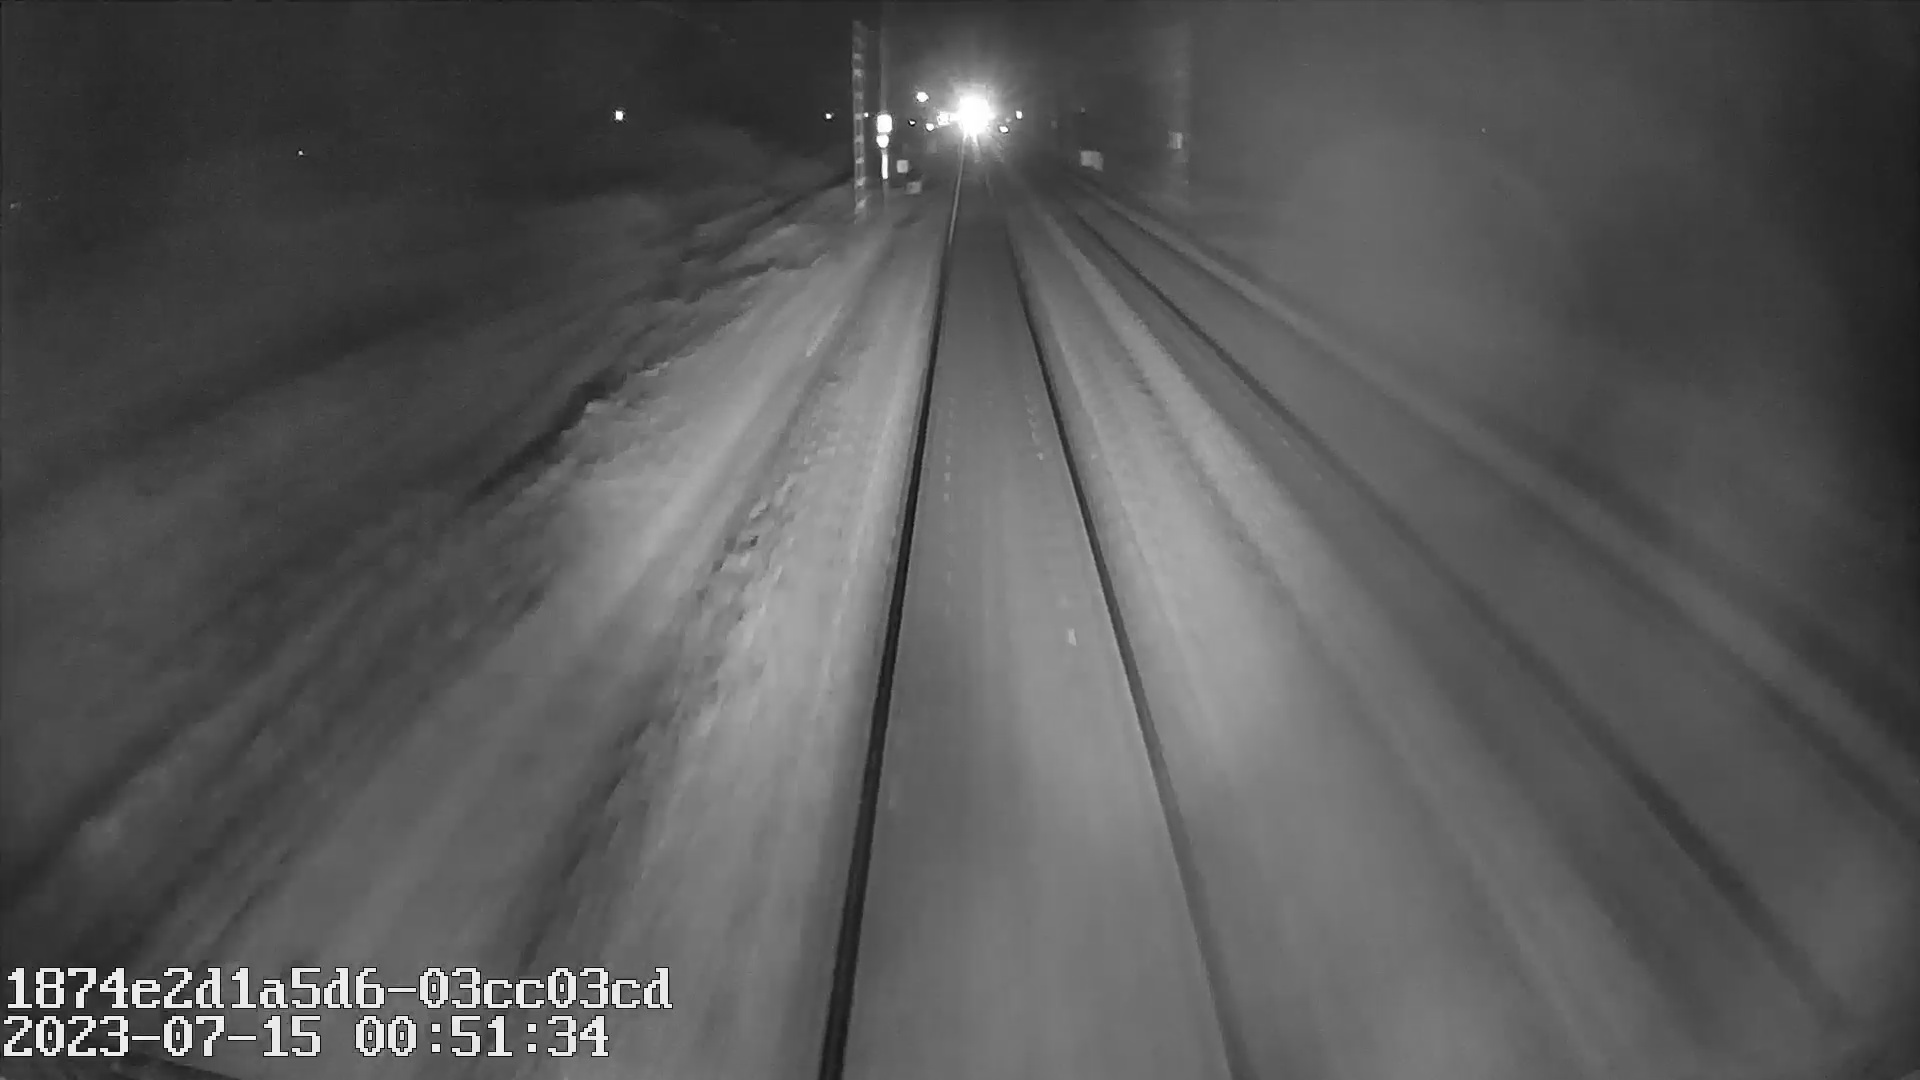track1: (833, 189, 1242, 1056)
track2: (1056, 186, 1911, 965)
